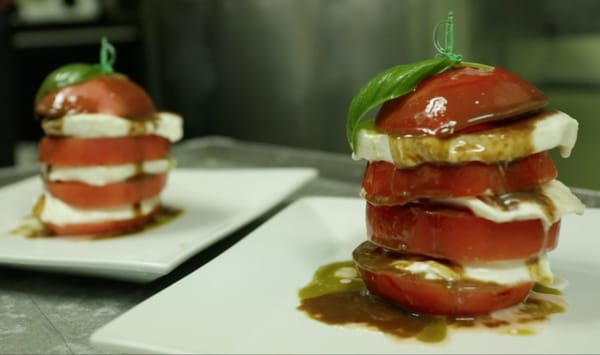soup: (344, 54, 583, 318)
